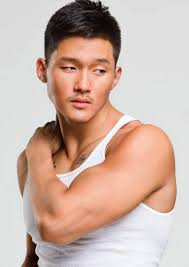asian_male: (40, 21, 117, 125)
